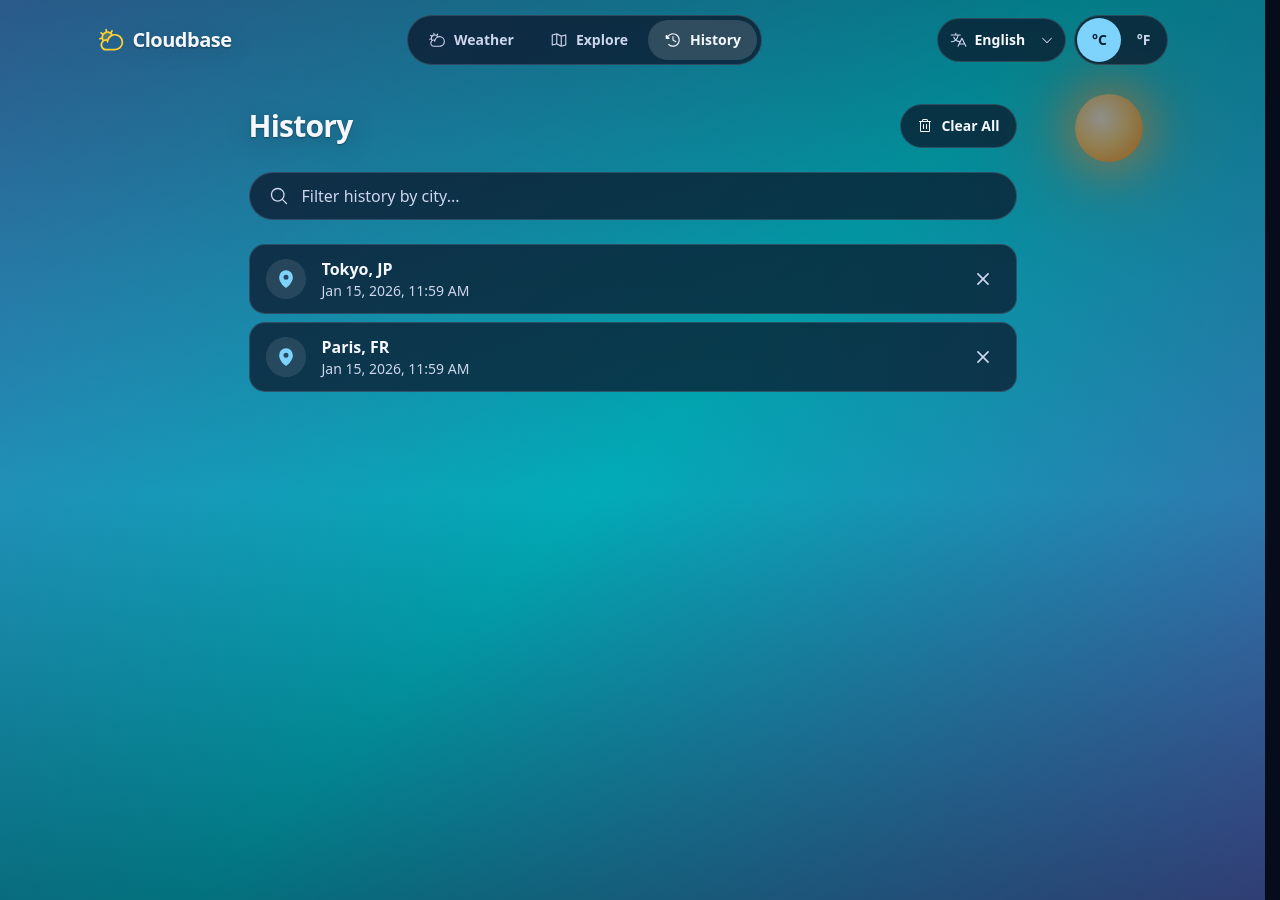
history › asks for confirmation inside the page before clearing, and Cancel keeps everything
Step 1. Click the button "Clear All" → (958, 126), box x1=900 y1=104 x2=1016 y2=148
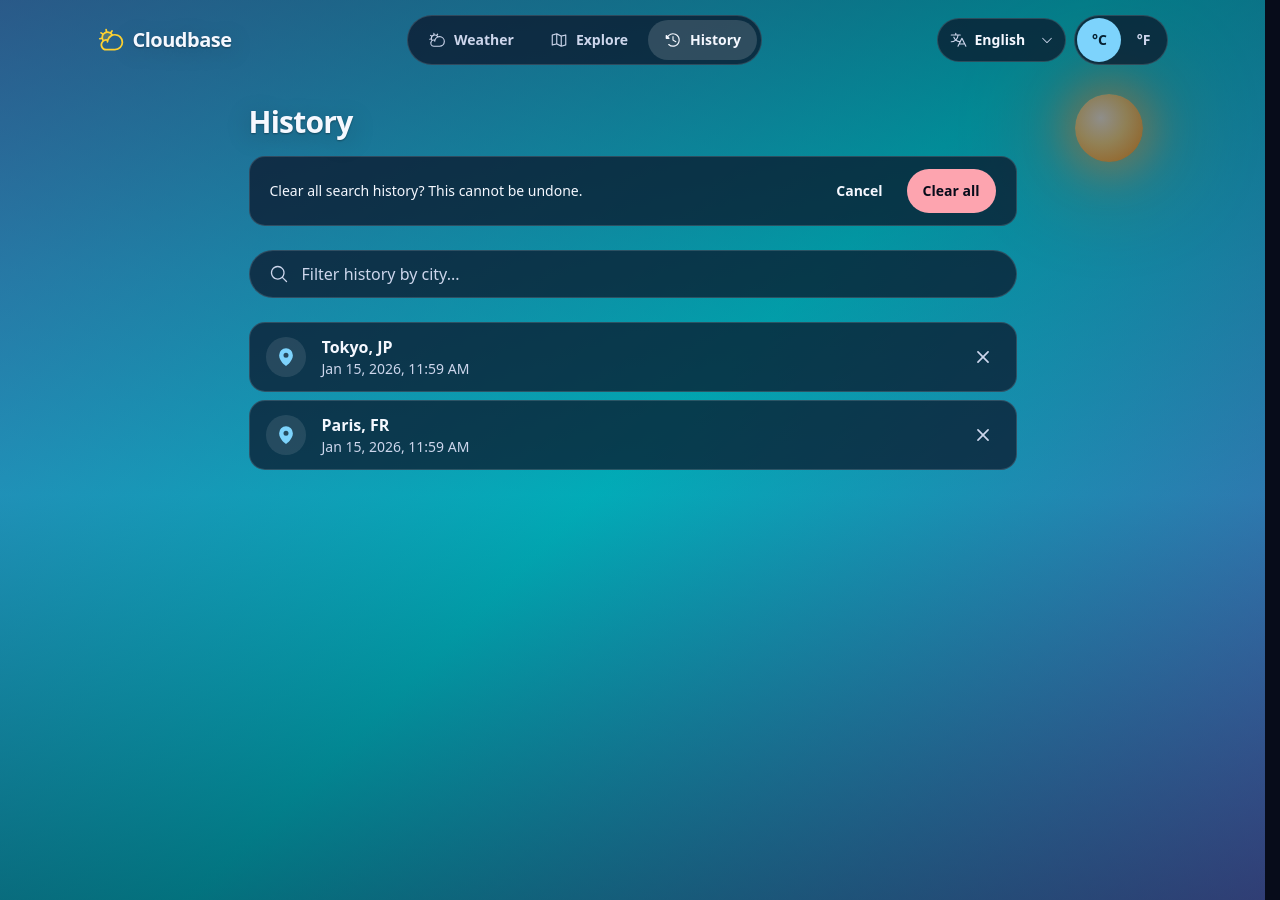
Check: the number of list items is 2, box x1=248 y1=322 x2=1016 y2=392; x1=248 y1=400 x2=1016 y2=470
Check: the message shows "Clear all search history? This cannot be undone.", box x1=270 y1=181 x2=582 y2=200
Step 2. Click the button "Cancel" → (859, 191), box x1=820 y1=169 x2=899 y2=213
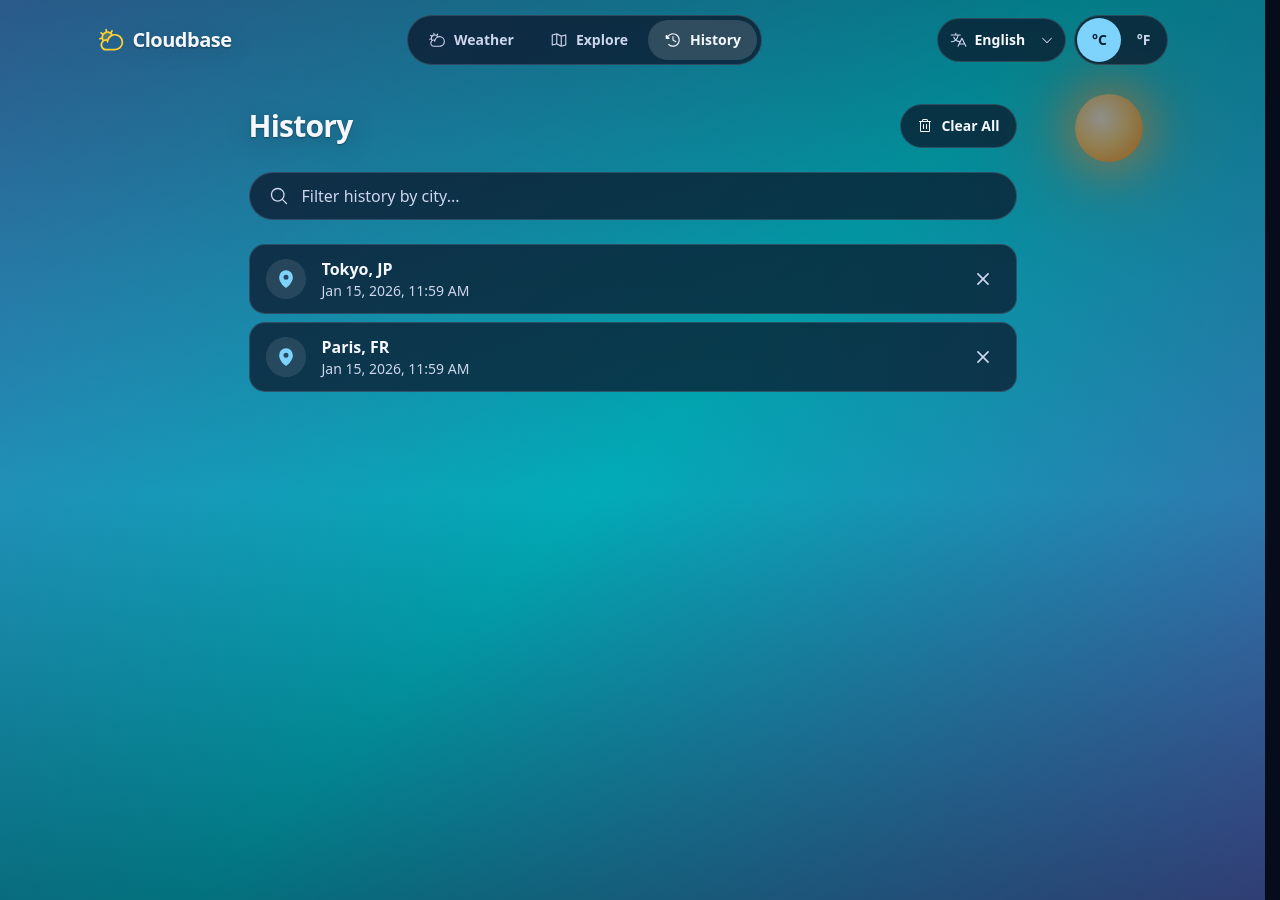
Check: the number of list items is 2, box x1=248 y1=244 x2=1016 y2=314; x1=248 y1=322 x2=1016 y2=392
Check: the message "Clear all search history? This cannot be undone. Cancel Clear all" is gone
